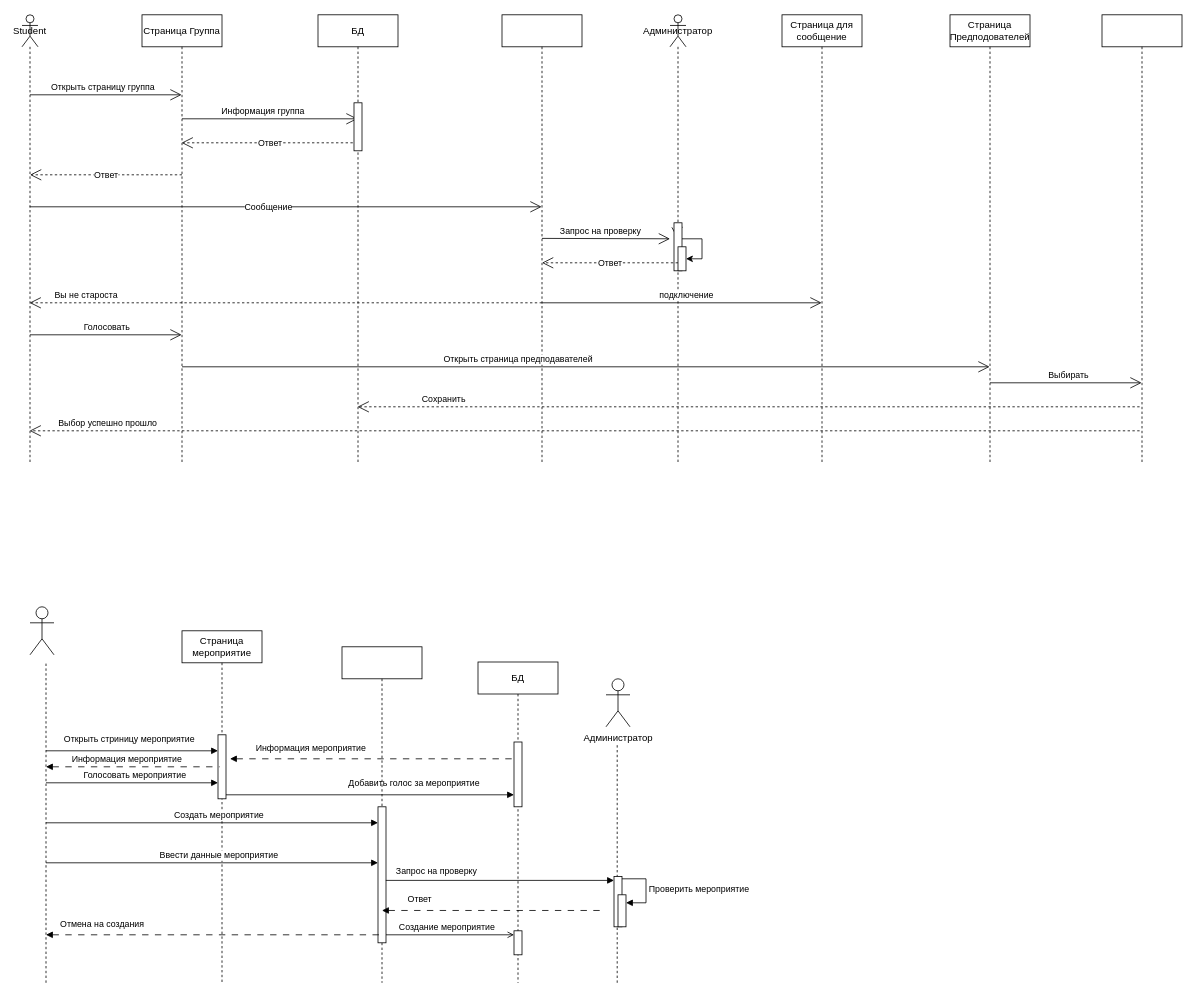
Image size: 1196x998. Some labels were removed from this diagram. Here are the shapes that lost their labels. From the top down, the box of each, then its label:
(501, 14, 582, 463): Связ с Предподавателем и эдвайзером
(1101, 14, 1182, 463): Выбор
(29, 606, 54, 655): Actor
(341, 646, 422, 983): Страница создания
